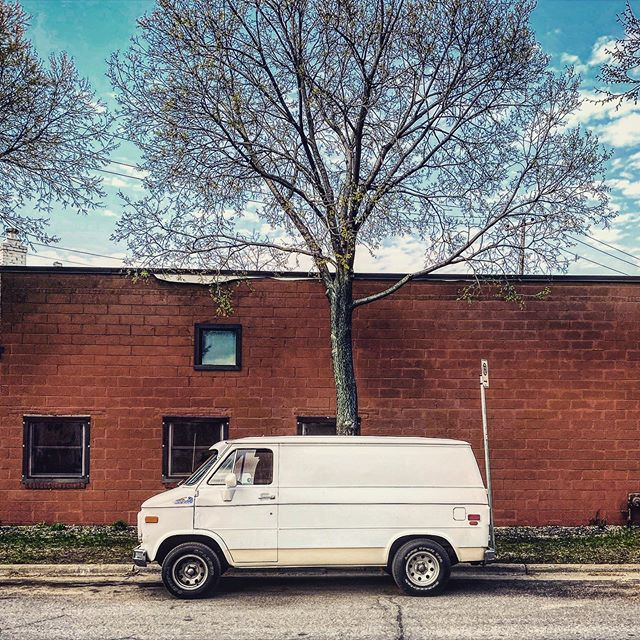building: (1, 266, 626, 531)
sky: (114, 1, 580, 467)
street: (1, 576, 631, 640)
van: (134, 427, 501, 594)
